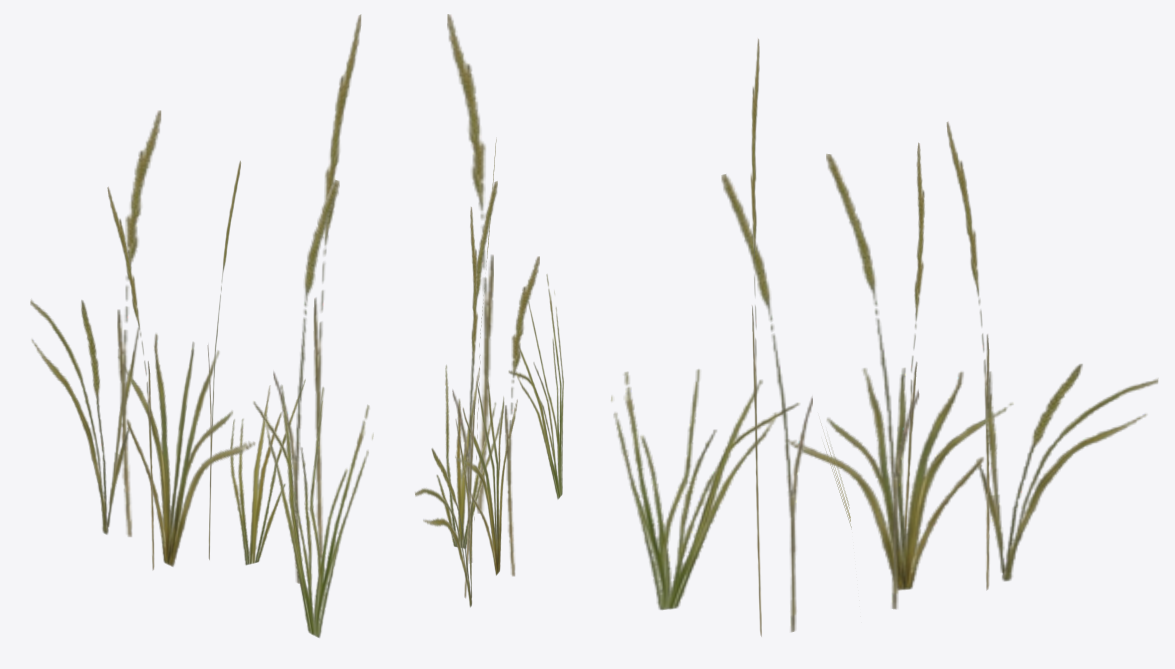
The model's file is grass_d.glb.
3 renders of one model, left to right at view 1: azimuth 30°, elevation 25°; view 2: azimuth 150°, elevation 25°; view 3: azimuth 270°, elevation 25°, orthographic. The views are drawn at different scales.
Parts seen in each view (by area): view 1: grass_d; view 2: grass_d; view 3: grass_d.
Boxes of the visible parts, x1=… form: grass_d: x1=30, y1=14, x2=373, y2=637; grass_d: x1=415, y1=14, x2=563, y2=607; grass_d: x1=611, y1=38, x2=1158, y2=636.
Bounding box in the file's own units: 0.2971 × 0.8942 × 0.7291.
Materials: 1 (1 with a texture image).
